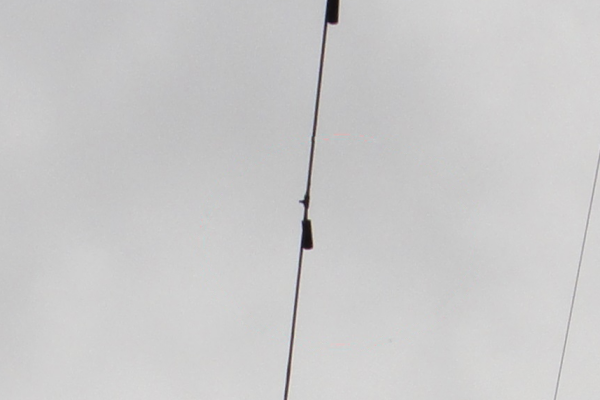damper_defect: (296, 176, 316, 256)
